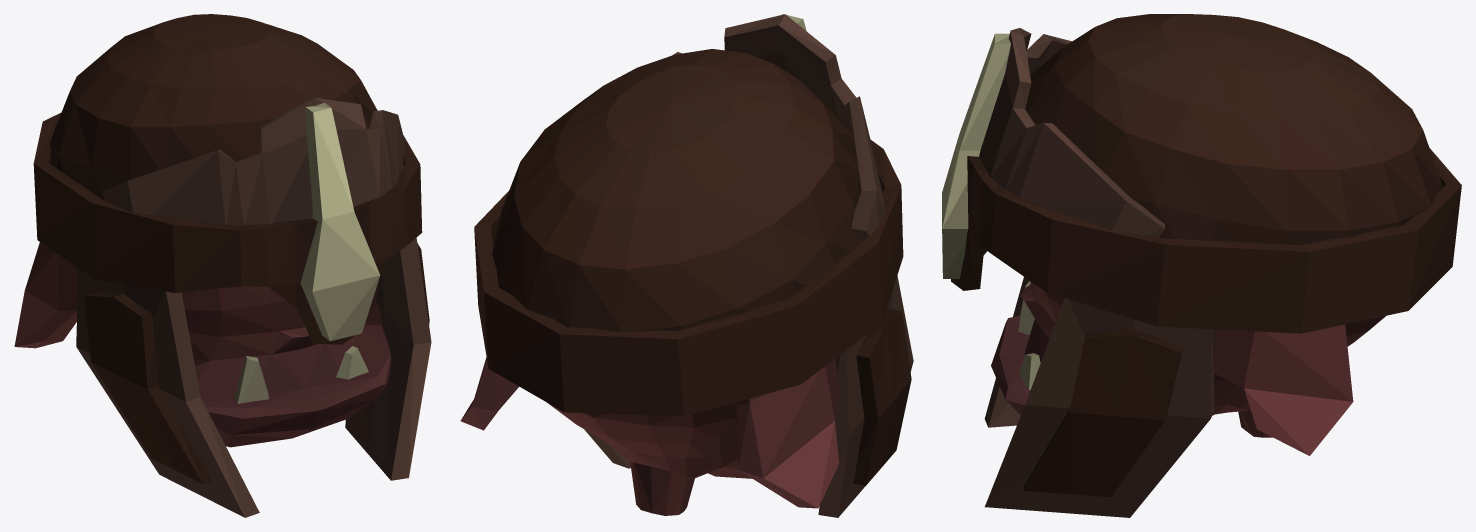
File: Goblin_Red_Head_Helm_1.fbx
The picture shows the model from 3 angles, left to right: view 1: azimuth 30°, elevation 25°; view 2: azimuth 150°, elevation 25°; view 3: azimuth 270°, elevation 25°; orthographic projection. The views are drawn at different scales.
Parts seen in each view (by area): view 1: Goblin_Red_Head_Helm_1; view 2: Goblin_Red_Head_Helm_1; view 3: Goblin_Red_Head_Helm_1.
Boxes of the visible parts, x1=… form: Goblin_Red_Head_Helm_1: x1=14, y1=14, x2=431, y2=517; Goblin_Red_Head_Helm_1: x1=460, y1=14, x2=913, y2=517; Goblin_Red_Head_Helm_1: x1=942, y1=14, x2=1461, y2=517.
Size of the model in its own units: 1.03 by 1.2 by 1.3.
